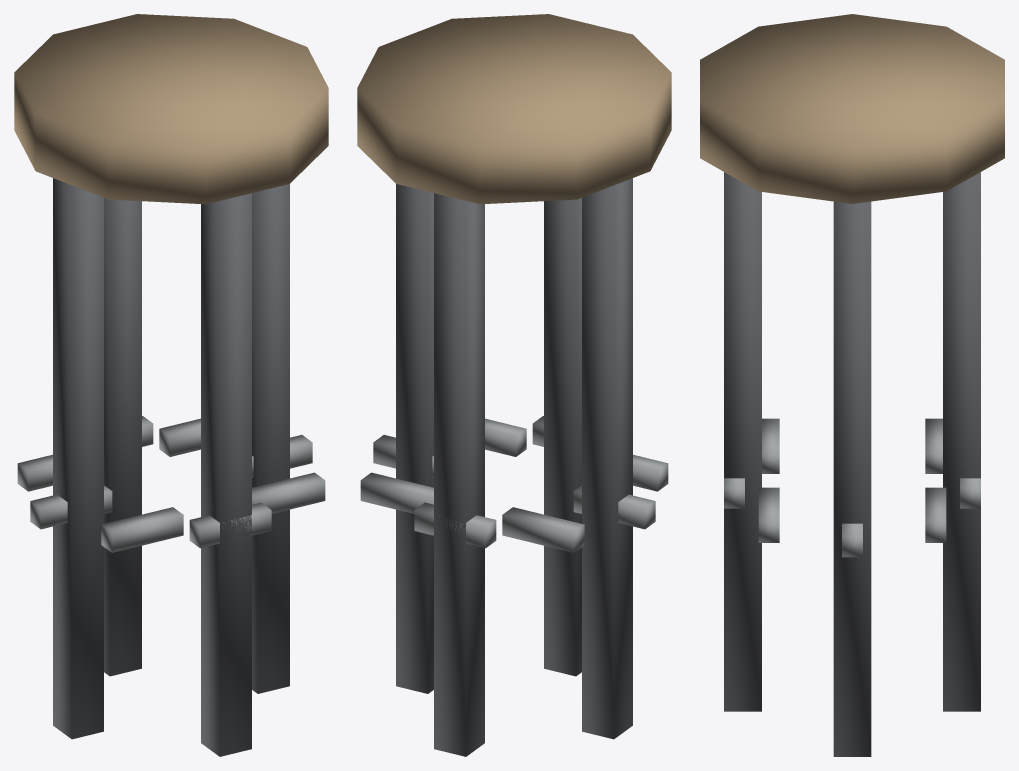
File: bar_stool__compact.glb
3 views of the same model, side by side, from view 1: azimuth 30°, elevation 25°; view 2: azimuth 150°, elevation 25°; view 3: azimuth 270°, elevation 25° (orthographic).
Parts seen in each view (by area): view 1: world; view 2: world; view 3: world.
Part boxes in pixels (<box>): world: <box>14,14,328,756</box>; world: <box>357,14,671,756</box>; world: <box>700,14,1004,756</box>.
Size of the model in its own units: 0.3192 by 0.7021 by 0.3108.
